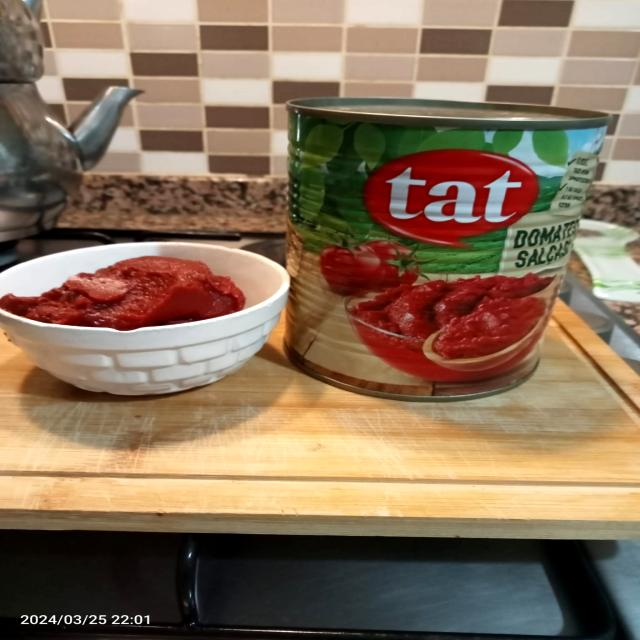tomato paste: (279, 102, 596, 401), (6, 242, 268, 380)
